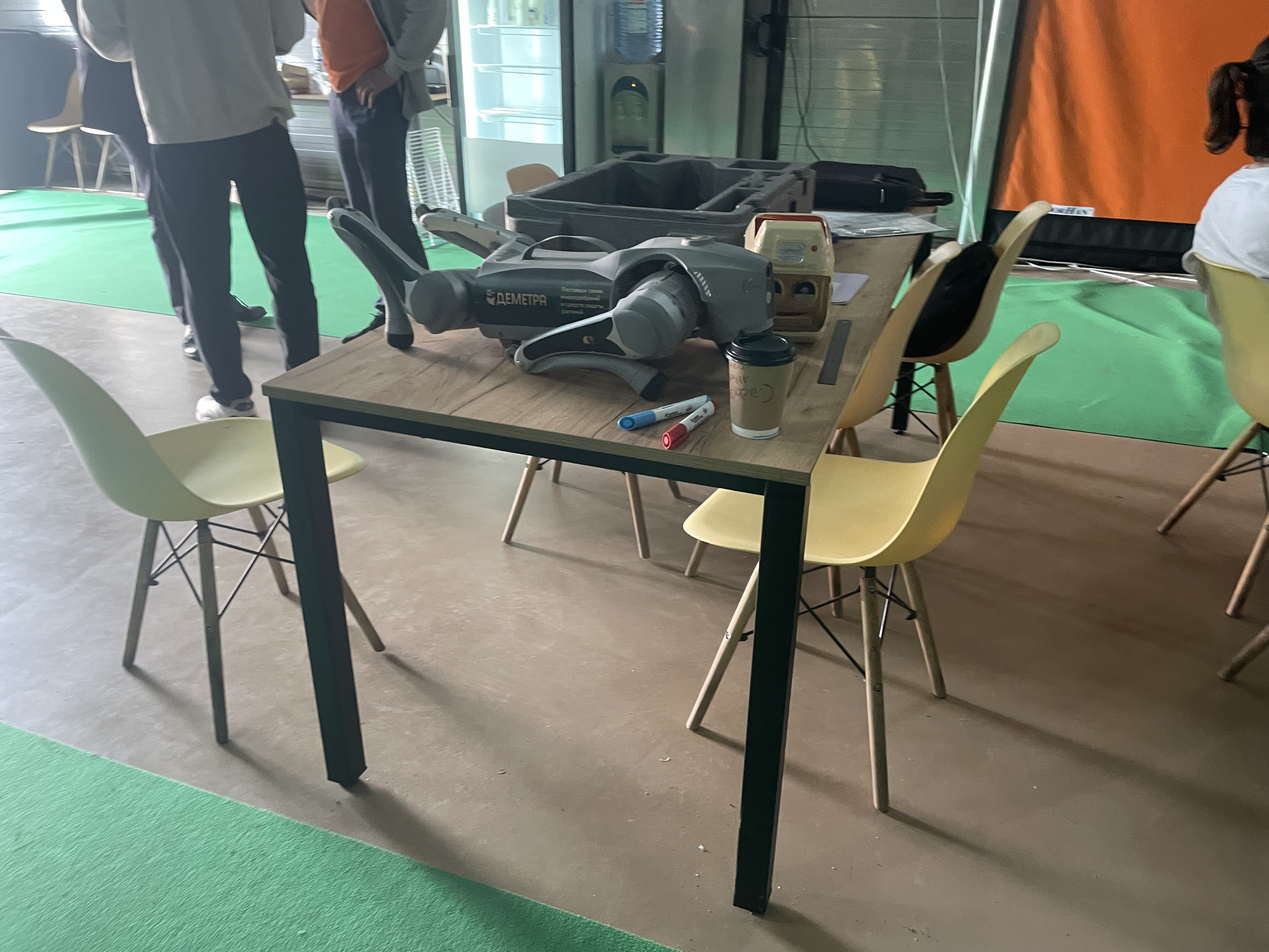cup: (724, 330, 798, 440)
